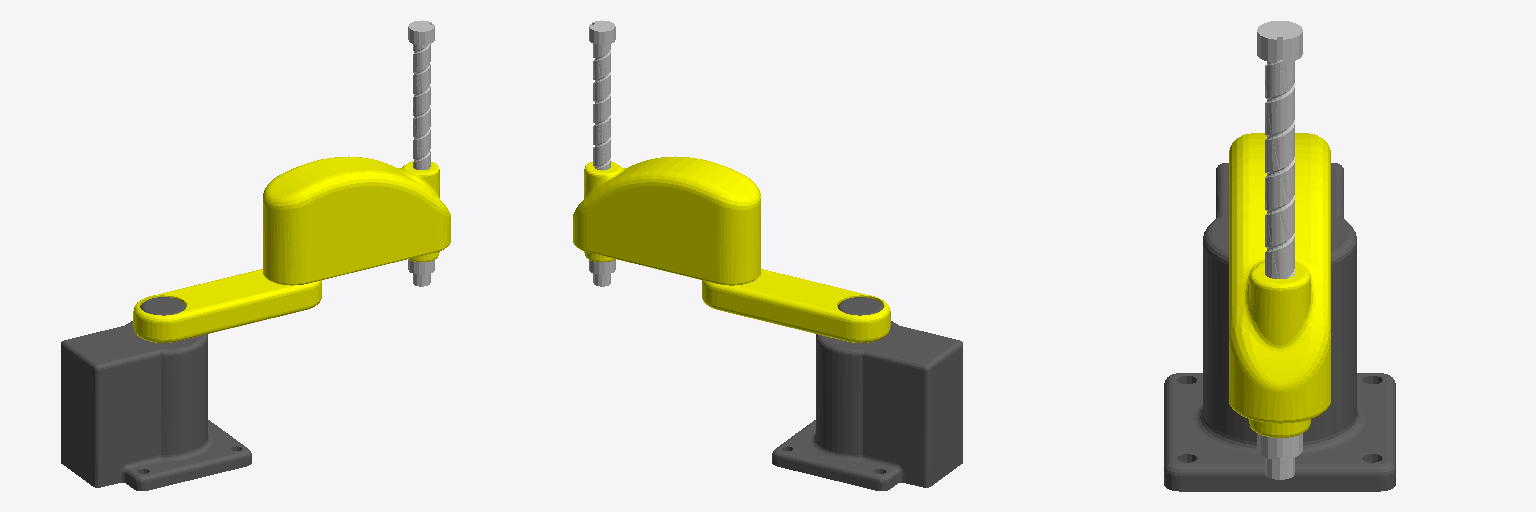
The robot description file, URDF, robot "Scara":
<?xml version="1.0"?>

<robot name="Scara">
    
    <!-- Linkages  -->
    <link name="lk0">
    	<visual>
    	    <origin xyz="0.0 0.0 0.0" rpy="0.0 0.0 0.0"/>
    	    <geometry>
    	    	<mesh filename="lk_0.STL" scale="1.0 1.0 1.0" />
    	    </geometry>
    	    <material name="black">
    	    	<color rgba="0.4 0.4 0.4 1.0"/>
    	    </material>
    	</visual>
    	<inertial>
            <origin xyz="0 0 0" rpy="0 0 0"/>
            <mass value="1"/>
            <inertia ixx="1"  ixy="0"  ixz="0" iyy="1" iyz="0" izz="1" />
       </inertial>
    </link>
    
    <link name="lk1">
    	<visual>
    	    <origin xyz="0.0 0.0 0.0" rpy="0.0 0.0 0.0"/>
    	    <geometry>
    	    	<mesh filename="lk_1.STL" scale="1.0 1.0 1.0" />
    	    </geometry>
    	    <material name="yellow">
    	    	<color rgba="1.0 1.0 0.0 1.0"/>
    	    </material>
    	</visual>
    	<inertial>
            <origin xyz="0 0 0" rpy="0 0 0"/>
            <mass value="1"/>
            <inertia ixx="1"  ixy="0"  ixz="0" iyy="1" iyz="0" izz="1" />
       </inertial>
    </link>
    
    <link name="lk2">
    	<visual>
    	    <origin xyz="0.0 0.0 0.0" rpy="0.0 0.0 0.0"/>
    	    <geometry>
    	    	<mesh filename="lk_2.STL" scale="1.0 1.0 1.0" />
    	    </geometry>
    	    <material name="yellow">
    	    	<color rgba="1.0 1.0 0.0 1.0"/>
    	    </material>
    	</visual>
    	<inertial>
            <origin xyz="0 0 0" rpy="0 0 0"/>
            <mass value="1"/>
            <inertia ixx="1"  ixy="0"  ixz="0" iyy="1" iyz="0" izz="1" />
       </inertial>
    </link>
    
    <link name="lk3">
        <inertial>
            <origin xyz="0 0 0" rpy="0 0 0"/>
            <mass value="1"/>
            <inertia ixx="1"  ixy="0"  ixz="0" iyy="1" iyz="0" izz="1" />
        </inertial>
    </link>
        
   
    
    <link name="lk4">
    	<visual>
    	    <origin xyz="0.0 0.0 0.0" rpy="0.0 0.0 0.0"/>
    	    <geometry>
    	    	<mesh filename="lk_3.STL" scale="1.0 1.0 1.0" />
    	    </geometry>
    	    <material name="silver">
    	    	<color rgba="0.8 0.8 0.8 1.0"/>
    	    </material>
    	</visual>
    	<inertial>
            <origin xyz="0 0 0" rpy="0 0 0"/>
            <mass value="1"/>
            <inertia ixx="1"  ixy="0"  ixz="0" iyy="1" iyz="0" izz="1" />
       </inertial>
    </link>
    
    <!-- Joints -->
    <joint name="j1" type="revolute">
    	<parent link="lk0"/>
    	<child link="lk1"/>
    	<axis xyz="0.0 0.0 1.0"/>
    	<limit lower="-3.1416" upper="3.1416" effort="1.0" velocity="1.0"/>
    	<origin xyz="0.0 0.0 0.5" rpy="0.0 0.0 0.0" />
    </joint>
    
    <joint name="j2" type="revolute">
    	<parent link="lk1"/>
    	<child link="lk2"/>
    	<axis xyz="0.0 0.0 1.0"/>
    	<limit lower="-3.1416" upper="3.1416" effort="1.0" velocity="1.0"/>
    	<origin xyz="0.5 0.0 0.0" rpy="0.0 0.0 0.0" />
    </joint>
    
    <joint name="j3" type="prismatic">
    	<parent link="lk2"/>
    	<child link="lk3"/>
    	<axis xyz="0.0 0.0 1.0"/>
    	<limit lower="0.0" upper="0.7" effort="1.0" velocity="1.0"/>
    	<origin xyz="0.5 0.0 0.0" rpy="3.1416 0.0 0.0" />
    </joint>
    
    <joint name="j4" type="revolute">
    	<parent link="lk3"/>
    	<child link="lk4"/>
    	<axis xyz="0.0 0.0 1.0"/>
    	<limit lower="-3.1416" upper="3.1416" effort="1.0" velocity="1.0"/>
    	<origin xyz="0.0 0.0 0.1" rpy="0.0 0.0 0.0" />
    </joint>

</robot>

--- Render facts (derived) ---
3 views of the same robot in one strip: view 1: azimuth 30°, elevation 25°; view 2: azimuth 150°, elevation 25°; view 3: azimuth 270°, elevation 25° (orthographic).
Robot: Scara — 5 links, 4 joints (3 revolute, 1 prismatic); root link lk0; default pose: all joints at 0.
Visible links, largest first — view 1: lk0, lk2, lk1, lk4; view 2: lk0, lk2, lk1, lk4; view 3: lk0, lk2, lk4.
Boxes of the visible links, box(x1,y1,x2,y2) form: lk0: box(61, 297, 251, 490); lk2: box(263, 156, 450, 285); lk1: box(133, 269, 321, 342); lk4: box(408, 20, 434, 286); lk0: box(772, 297, 962, 490); lk2: box(573, 156, 760, 285); lk1: box(702, 269, 890, 342); lk4: box(589, 20, 615, 286); lk0: box(1164, 163, 1395, 491); lk2: box(1229, 133, 1330, 437); lk4: box(1257, 21, 1302, 479).
Bounding box of the posed robot: 1.43 × 0.45 × 1.35 m (x, y, z).
4 mesh visuals loaded from 4 distinct referenced files (4 binary STL).